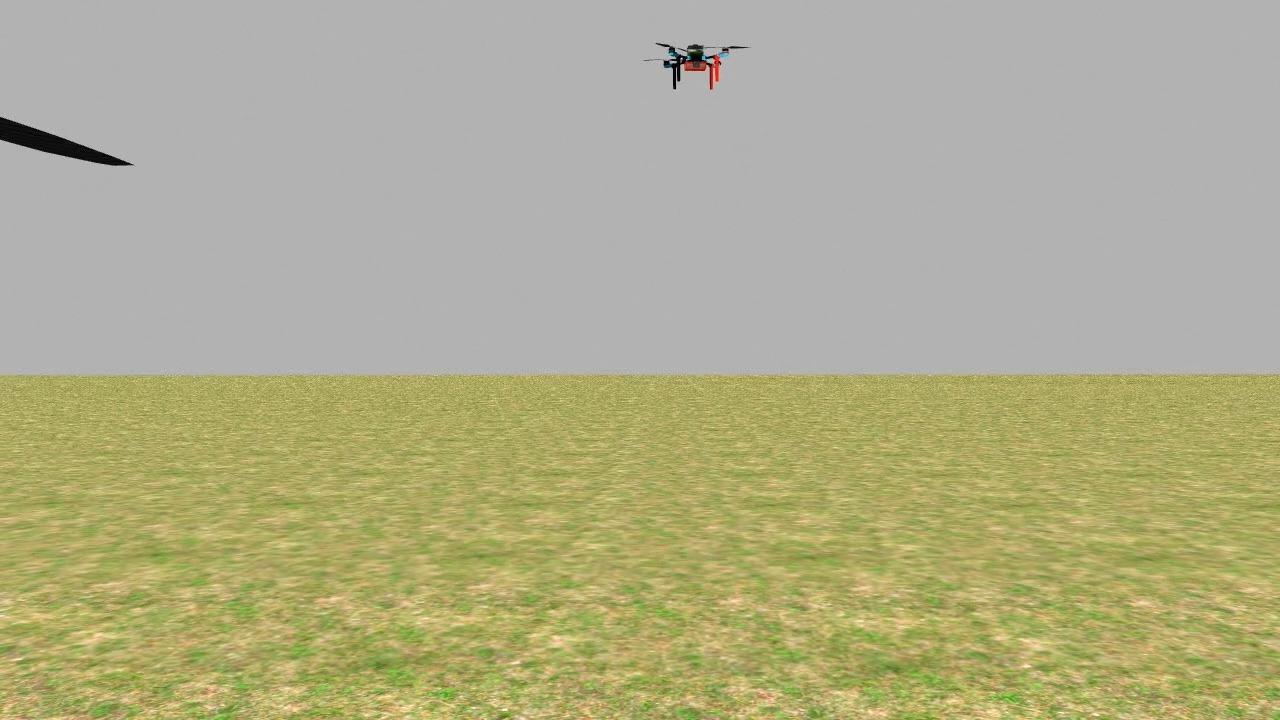UAV: (640, 33, 747, 102)
